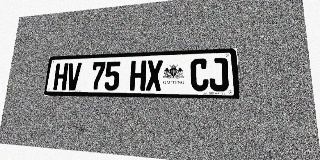5: (104, 61, 120, 90)
7: (90, 62, 106, 90)
C: (190, 58, 209, 91)
H: (129, 60, 146, 91), (53, 63, 69, 90)
J: (209, 58, 229, 91)
V: (66, 63, 82, 90)
X: (146, 60, 163, 91)
